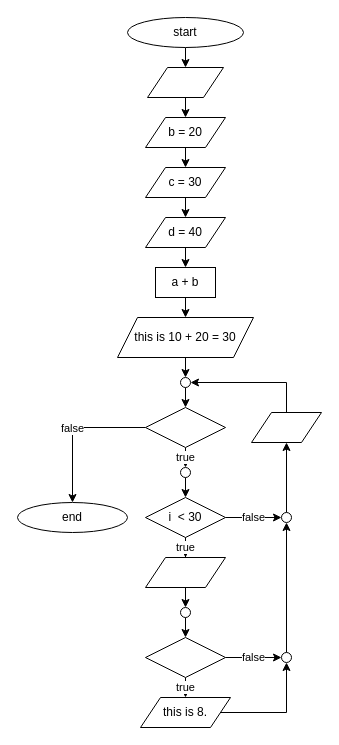
This 339x745 diagram has some shape labels left out. Each missing label, with the centre of its shape:
a = 10: the point at 185,82
here: the point at 185,572
i < 10: the point at 185,427
i = 8: the point at 185,657
ok: the point at 286,427
